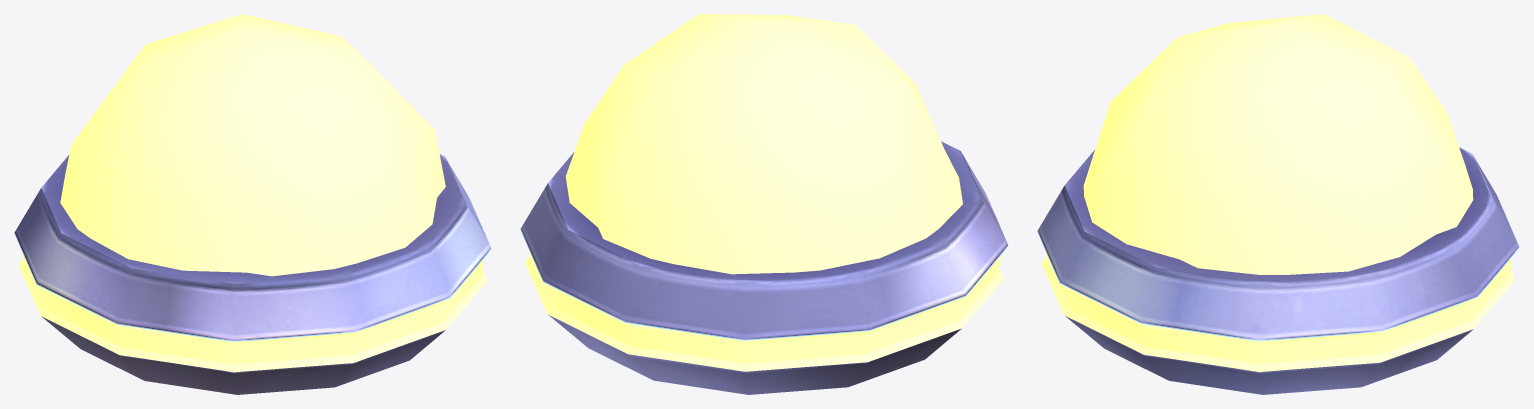
Rendered from obj_transmitter02.gltf.
The picture shows the model from 3 angles, left to right: view 1: azimuth 30°, elevation 25°; view 2: azimuth 150°, elevation 25°; view 3: azimuth 270°, elevation 25°; orthographic projection. The views are drawn at different scales.
Parts seen in each view (by area): view 1: obj_transmitter02; view 2: obj_transmitter02; view 3: obj_transmitter02.
Boxes of the visible parts, box(x1,y1,x2,y2) form: obj_transmitter02: box(14, 14, 491, 394); obj_transmitter02: box(520, 14, 1008, 394); obj_transmitter02: box(1037, 14, 1519, 394).
Size of what is drawn, in the model's own units: 0.8355 by 0.5497 by 0.8355.
Materials: 2 (1 with a texture image).
